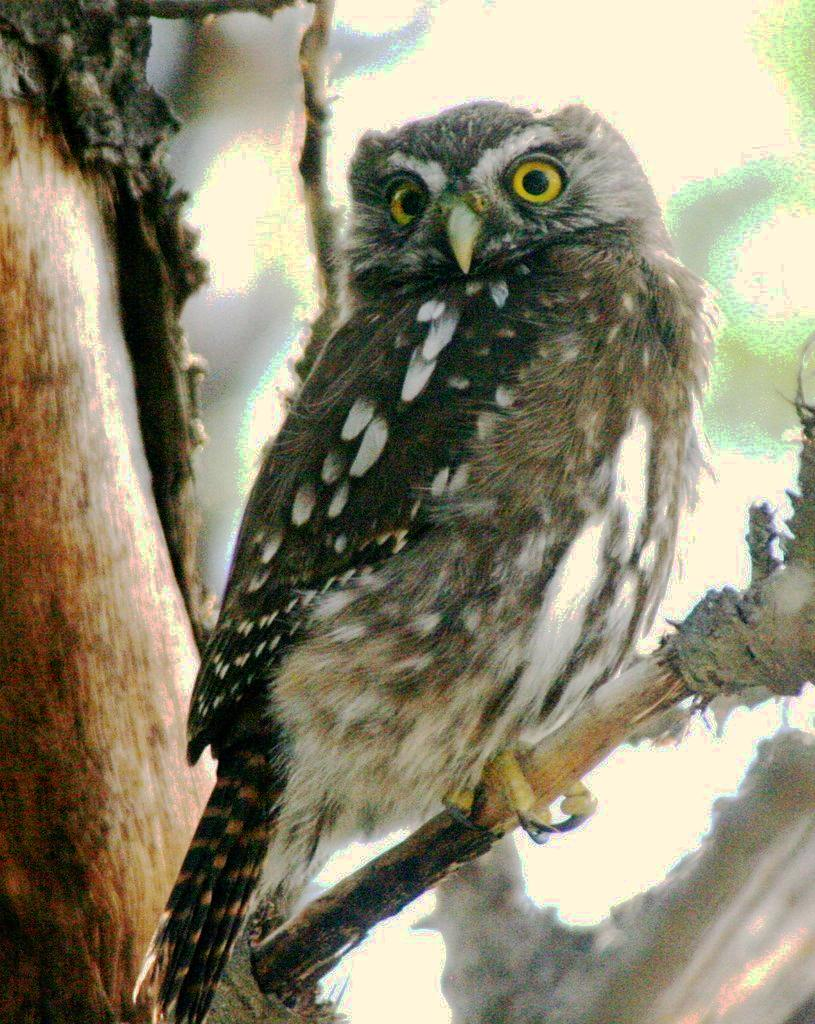Owl: (132, 101, 726, 1024)
